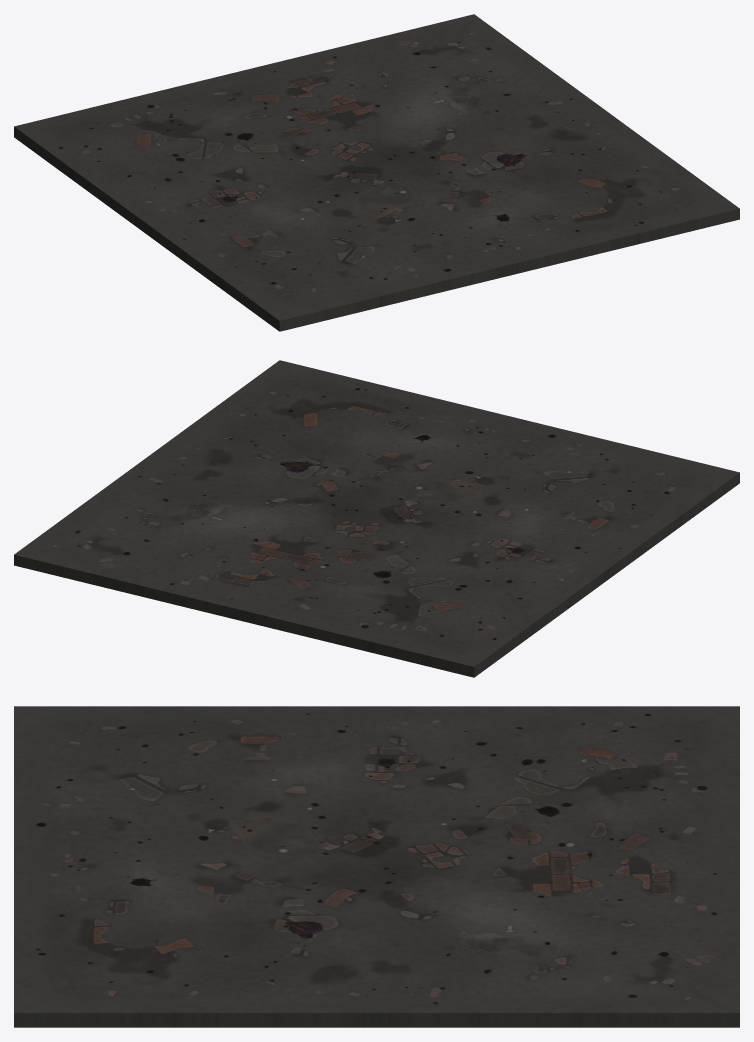
Rendered from foundry_floor_a.glb.
3 views of the same model, one above another, from view 1: azimuth 30°, elevation 25°; view 2: azimuth 150°, elevation 25°; view 3: azimuth 270°, elevation 25° (orthographic). The views are drawn at different scales.
Visible parts, largest first — view 1: foundry_floor_a; view 2: foundry_floor_a; view 3: foundry_floor_a.
Part boxes in pixels (left/top/right/bottom): foundry_floor_a: left=14, top=14, right=739, bottom=331; foundry_floor_a: left=14, top=360, right=739, bottom=677; foundry_floor_a: left=14, top=706, right=739, bottom=1027.
Bounding box in the file's own units: 4 × 0.14 × 4.
1 material, 1 textured.
